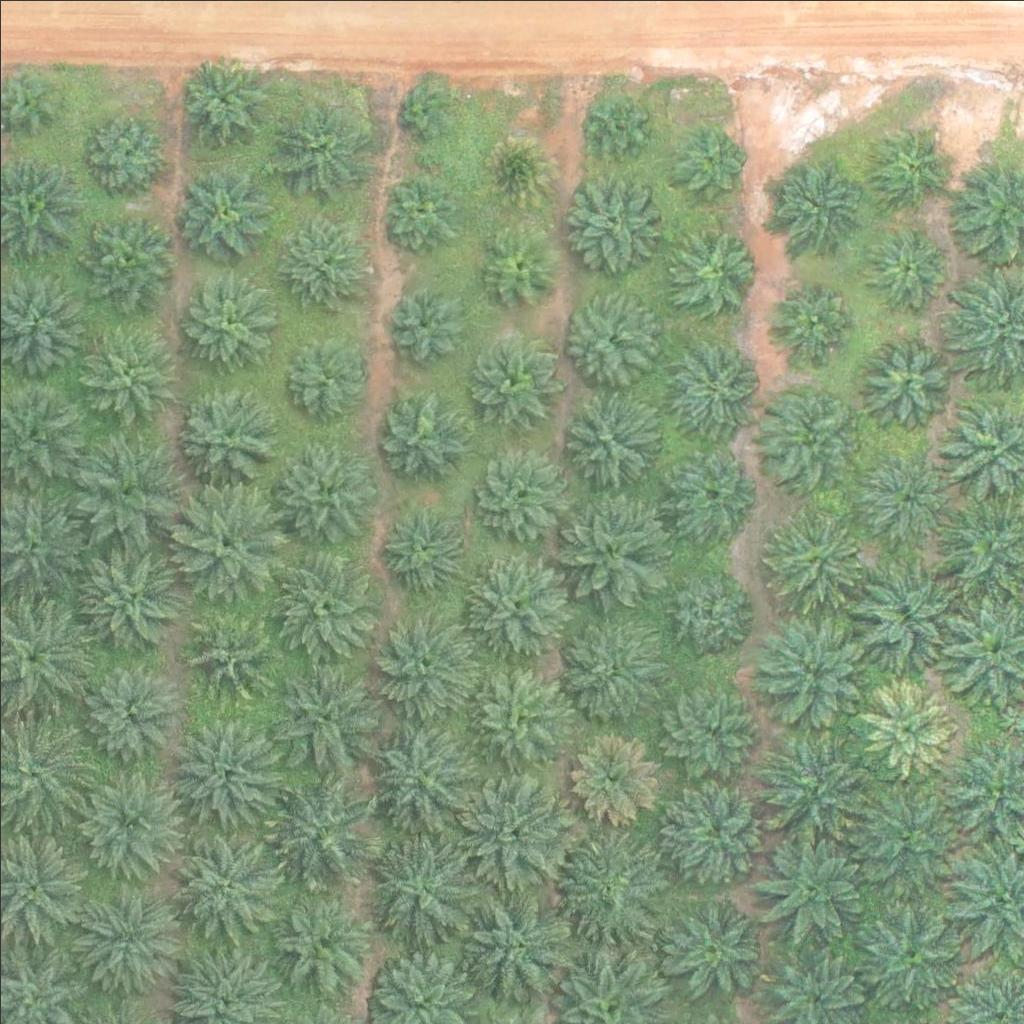Kelapa_Sawit: (852, 901, 965, 1015), (846, 775, 959, 889), (754, 830, 867, 944), (66, 882, 179, 996), (757, 607, 870, 721), (459, 883, 572, 996), (456, 773, 569, 886), (163, 823, 276, 936), (70, 764, 183, 877), (73, 543, 186, 656), (364, 720, 477, 833), (756, 733, 869, 846), (849, 558, 961, 672), (551, 828, 663, 941), (369, 834, 481, 947), (268, 774, 380, 887), (68, 436, 180, 549), (170, 487, 282, 600), (271, 548, 383, 661), (171, 720, 283, 833), (267, 661, 379, 774), (549, 485, 661, 598), (665, 897, 765, 998), (268, 893, 368, 994), (73, 326, 173, 427), (74, 209, 174, 310), (175, 384, 275, 485), (176, 268, 276, 369), (272, 440, 372, 541), (375, 618, 475, 719), (464, 667, 564, 768), (657, 681, 757, 782), (555, 621, 655, 722), (762, 153, 862, 254), (665, 782, 765, 882), (173, 52, 273, 152), (267, 102, 367, 202), (465, 556, 565, 656), (467, 445, 567, 545), (763, 506, 863, 606), (759, 374, 859, 474), (557, 288, 657, 388), (561, 170, 661, 270), (184, 610, 272, 699), (864, 123, 952, 212), (80, 108, 168, 196), (466, 337, 554, 425), (569, 733, 657, 821), (866, 454, 954, 542), (864, 337, 952, 425), (563, 397, 651, 485), (762, 276, 850, 364), (861, 225, 949, 313), (176, 168, 263, 256), (282, 337, 369, 425), (280, 225, 367, 313), (383, 507, 470, 595), (377, 388, 464, 476), (84, 668, 171, 756), (863, 688, 950, 776), (662, 566, 749, 654), (661, 448, 748, 536), (670, 342, 757, 430), (664, 223, 751, 311), (479, 224, 554, 300), (389, 285, 464, 361), (382, 176, 457, 252), (478, 135, 553, 211), (580, 86, 655, 162), (670, 128, 745, 203), (393, 76, 455, 139)
